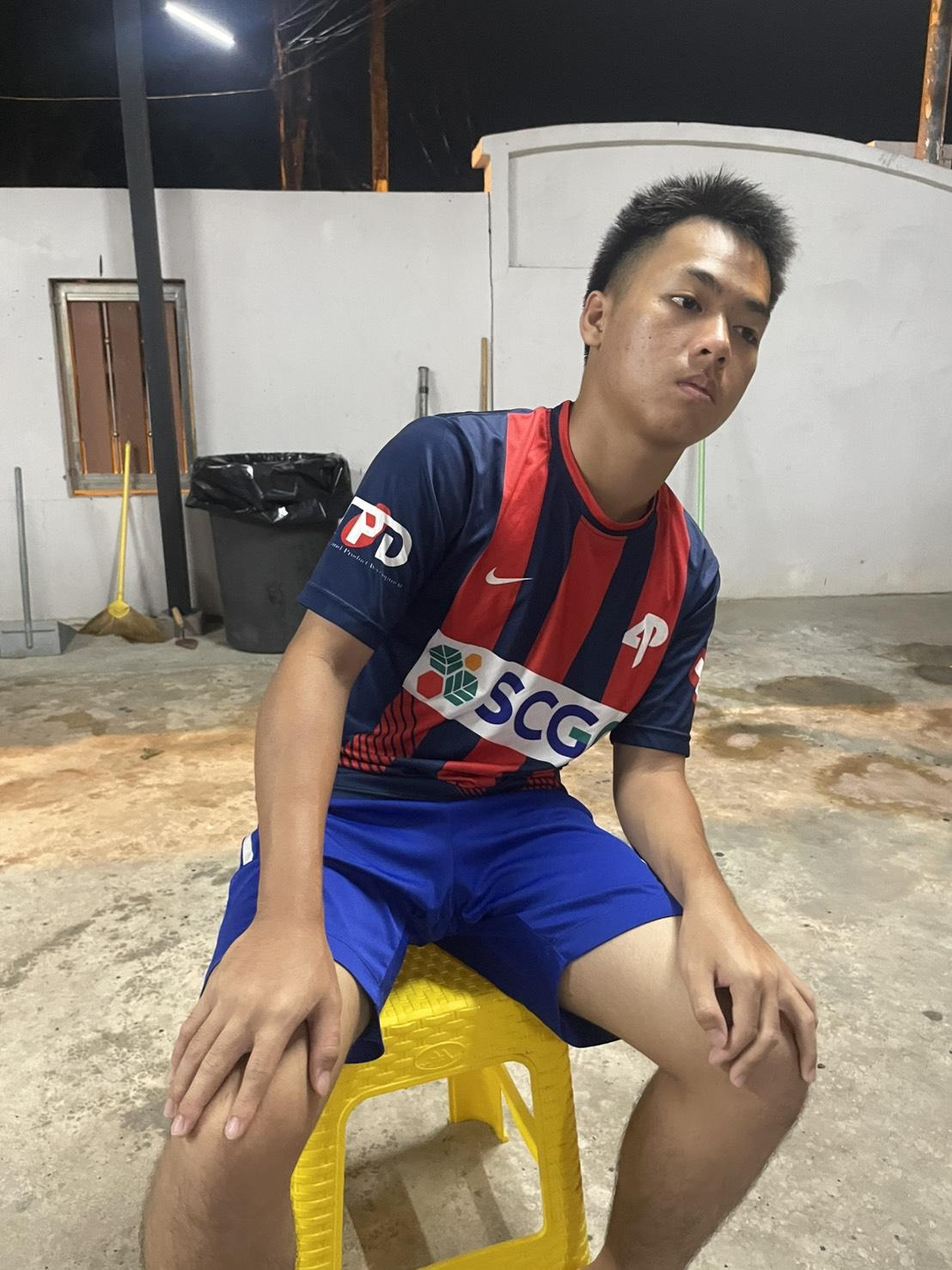BadPosture: (173, 172, 816, 1088), (300, 172, 793, 800)
